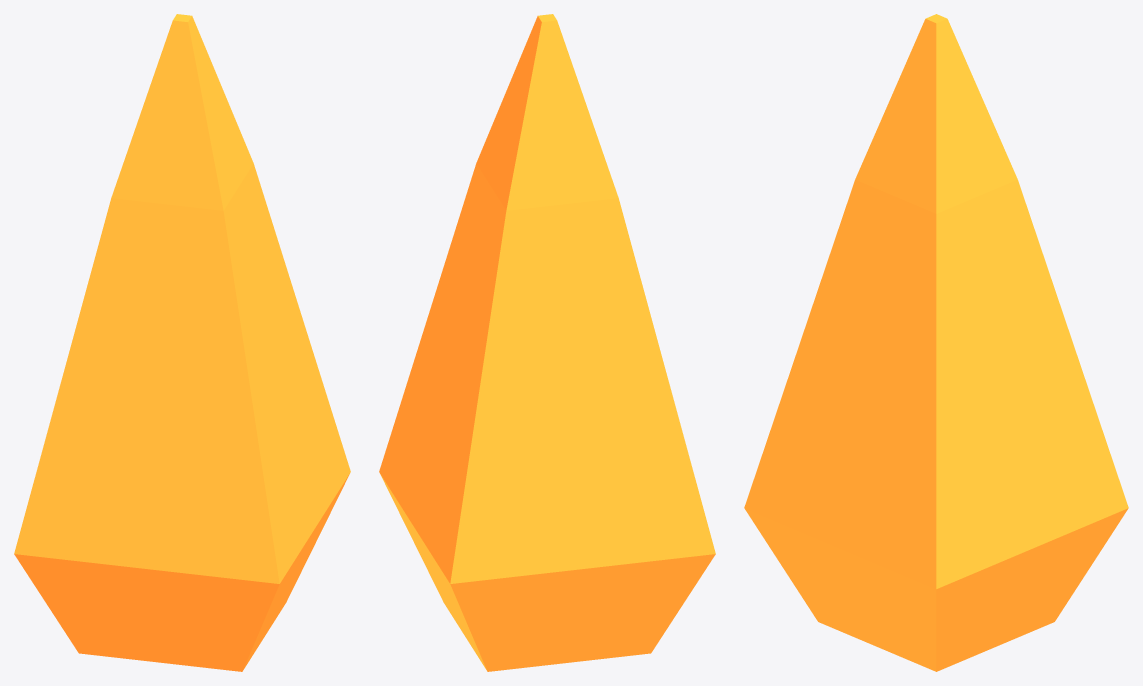
The model's file is SM_VFX_Flame_LQ.glb.
The picture shows the model from 3 angles, left to right: view 1: azimuth 30°, elevation 25°; view 2: azimuth 150°, elevation 25°; view 3: azimuth 270°, elevation 25°; orthographic projection.
Visible parts, largest first — view 1: SM_VFX_Flame_LQ; view 2: SM_VFX_Flame_LQ; view 3: SM_VFX_Flame_LQ.
Boxes of the visible parts, x1,y1,x2,y2 form: SM_VFX_Flame_LQ: (14, 14, 350, 671); SM_VFX_Flame_LQ: (379, 14, 715, 671); SM_VFX_Flame_LQ: (744, 14, 1128, 671).
Bounding box in the file's own units: 1.04 × 1.8 × 1.04.
Materials: 1 (1 with a texture image).
